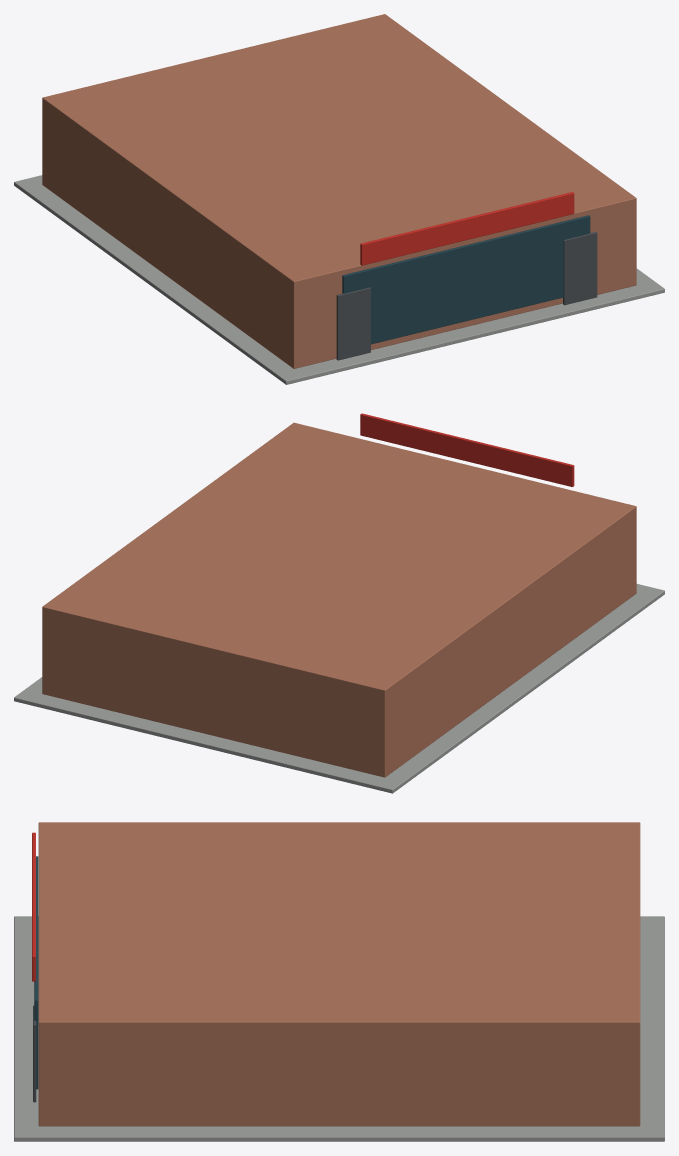
File: Building_Commercial_014.glb
3 views of the same model, one above another, from view 1: azimuth 30°, elevation 25°; view 2: azimuth 150°, elevation 25°; view 3: azimuth 270°, elevation 25° (orthographic). The views are drawn at different scales.
Visible parts, largest first — view 1: Building_Commercial_014; view 2: Building_Commercial_014; view 3: Building_Commercial_014.
Part boxes in pixels (left/top/right/bottom): Building_Commercial_014: left=14, top=14, right=664, bottom=384; Building_Commercial_014: left=14, top=413, right=664, bottom=793; Building_Commercial_014: left=14, top=822, right=664, bottom=1141.
Size of the model in its own units: 15.86 by 4.59 by 19.75.
